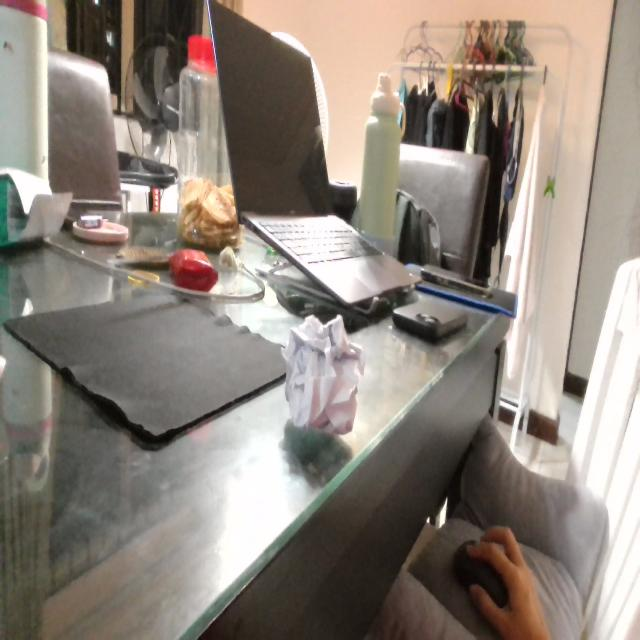crumpled_paper: (279, 310, 364, 440)
